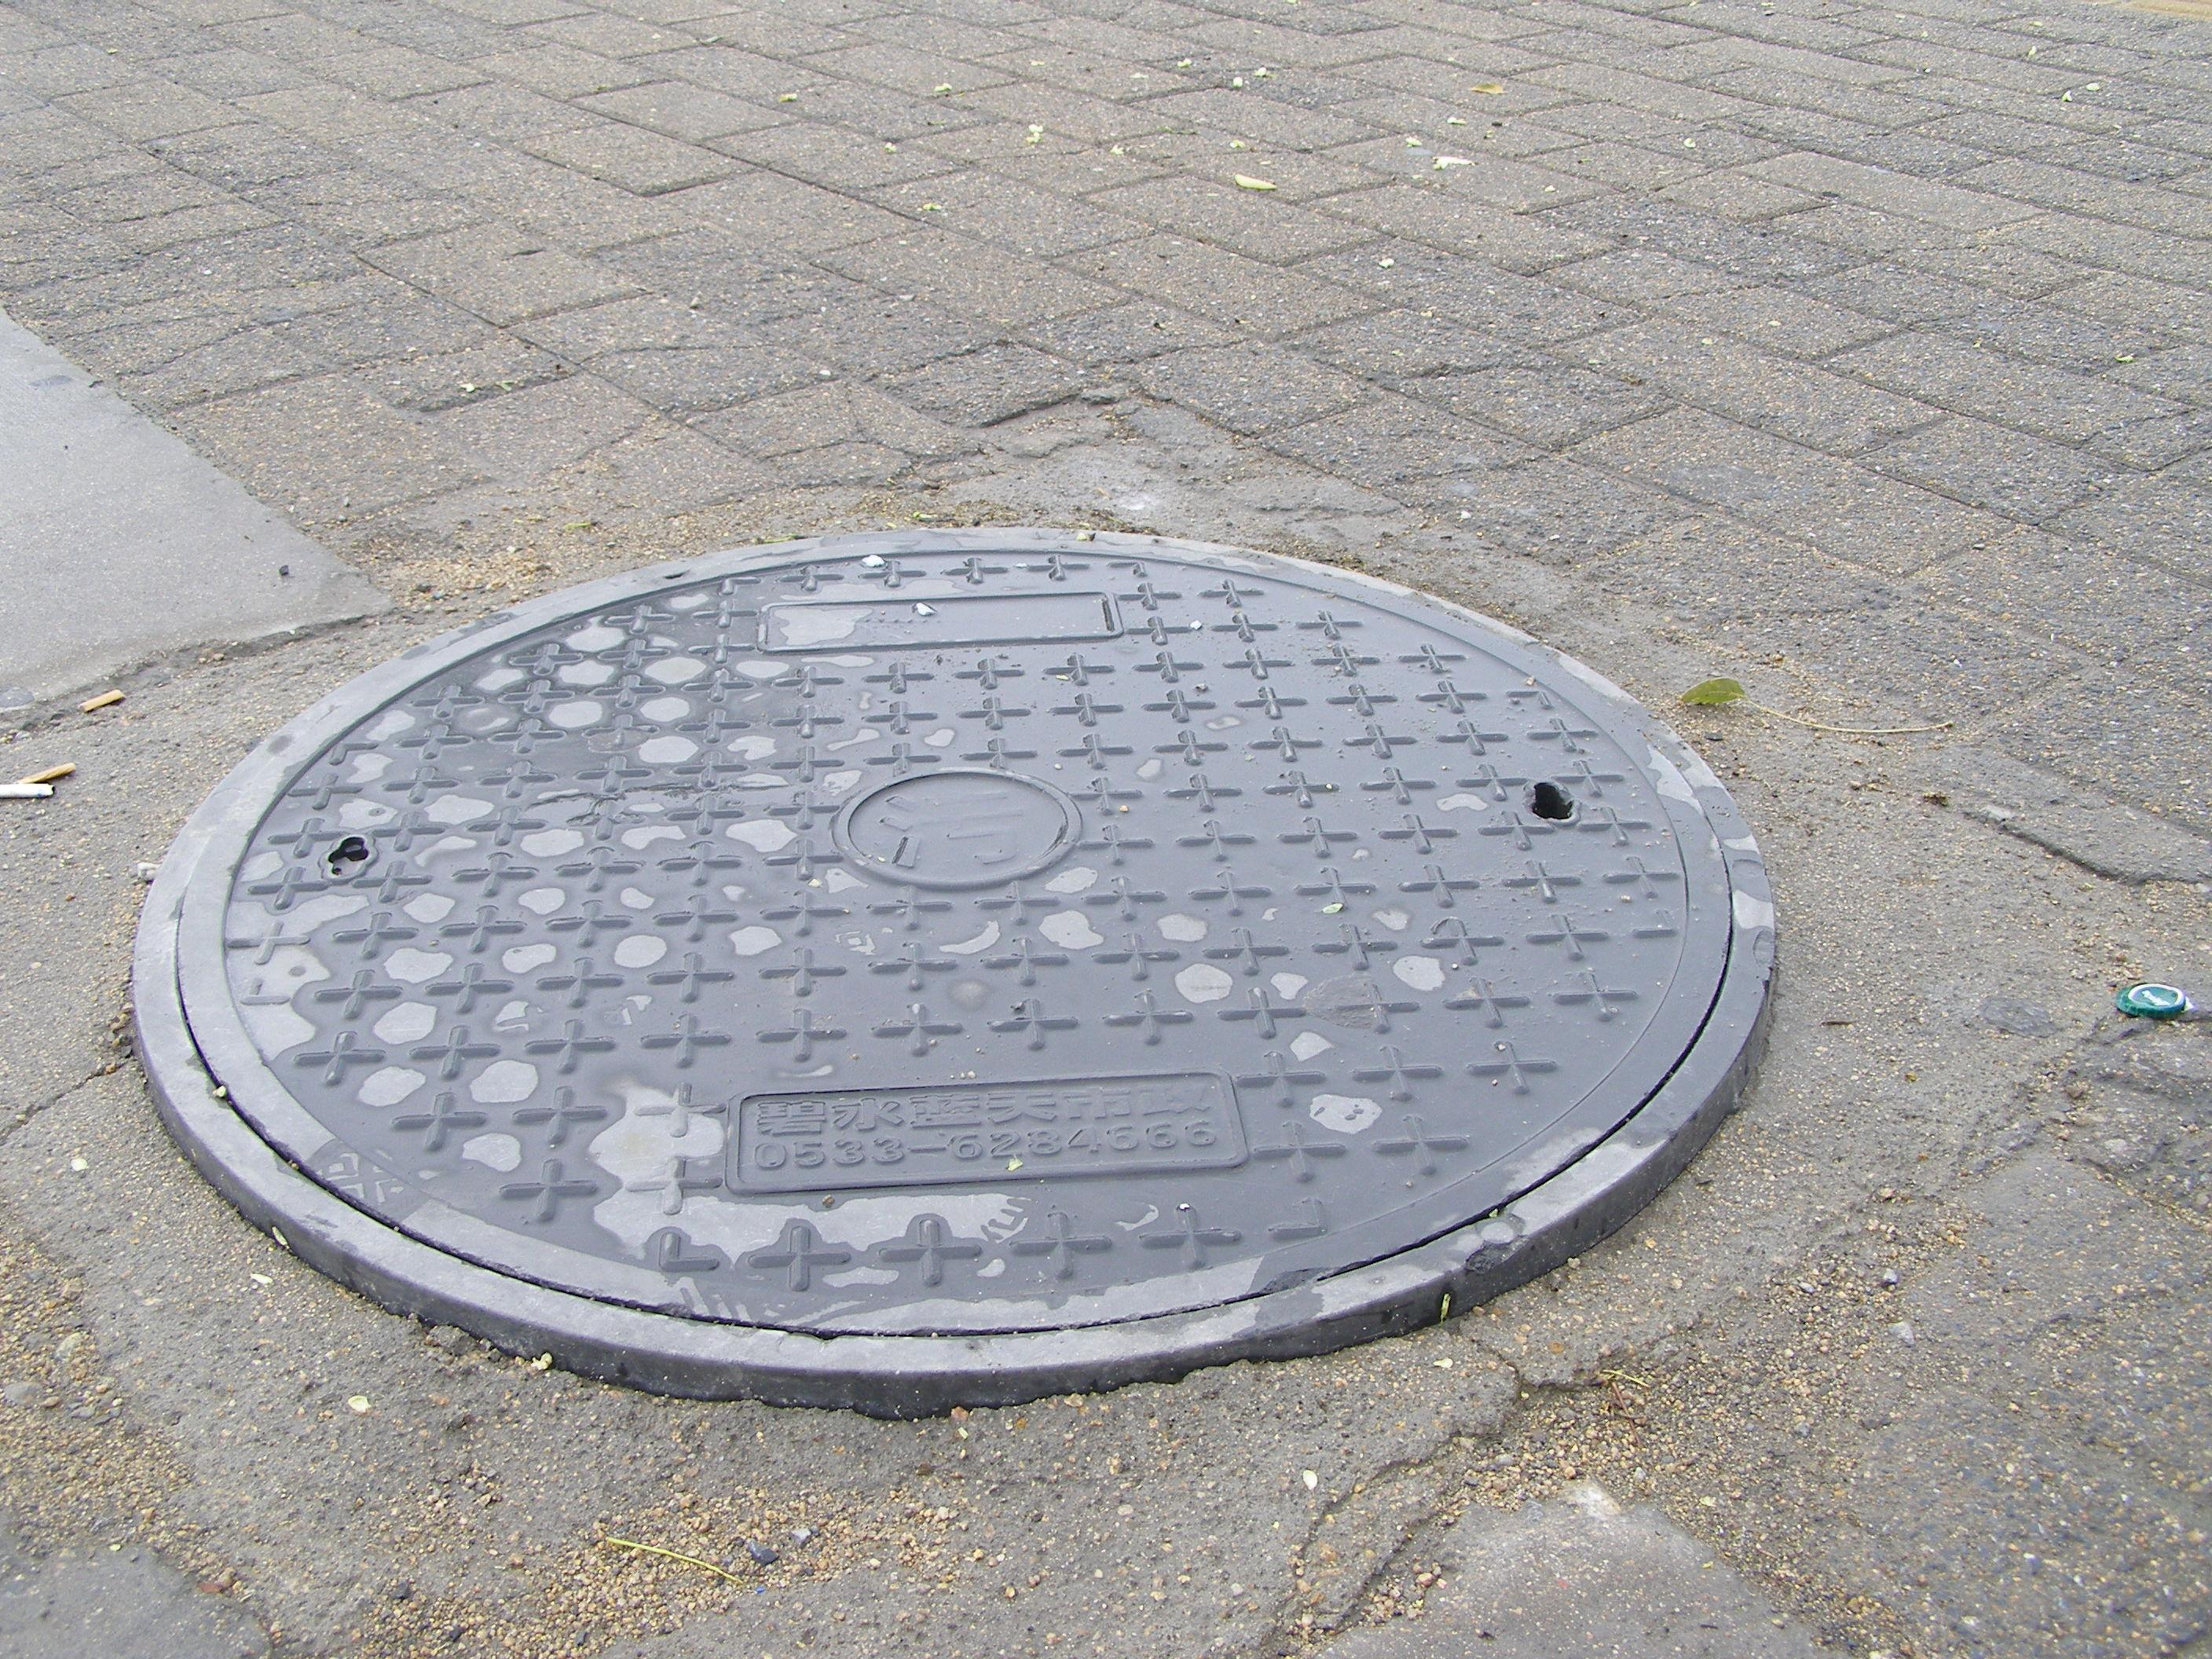wellcover: (162, 535, 1742, 1368)
